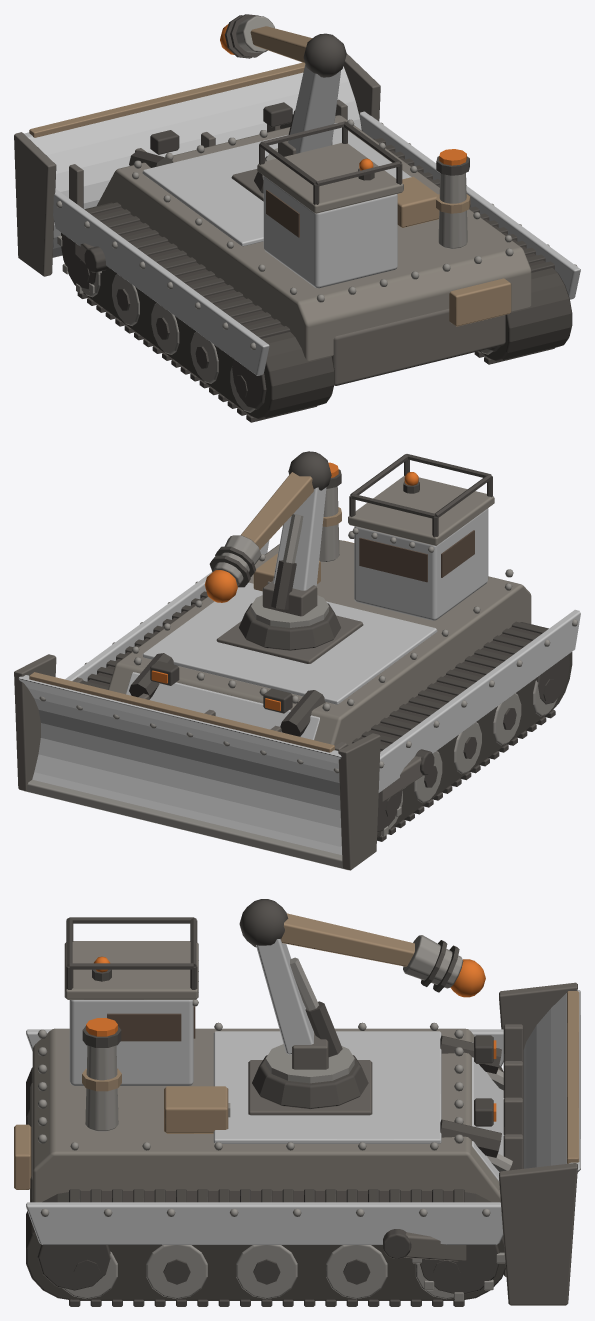
File: crucible_builder_vehicle.glb
3 renders of one model, top to bottom at view 1: azimuth 30°, elevation 25°; view 2: azimuth 150°, elevation 25°; view 3: azimuth 270°, elevation 25°, orthographic. The views are drawn at different scales.
Parts seen in each view (by area): view 1: Body; view 2: Body; view 3: Body.
Boxes of the visible parts, x1,y1,x2,y2 form: Body: (14, 14, 580, 422); Body: (14, 451, 580, 870); Body: (14, 899, 580, 1306).
Bounding box in the file's own units: 1.8 × 1.45 × 2.29.
